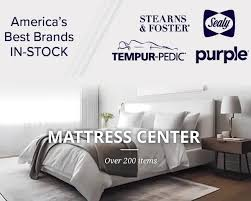bed-matress: (31, 127, 213, 176)
